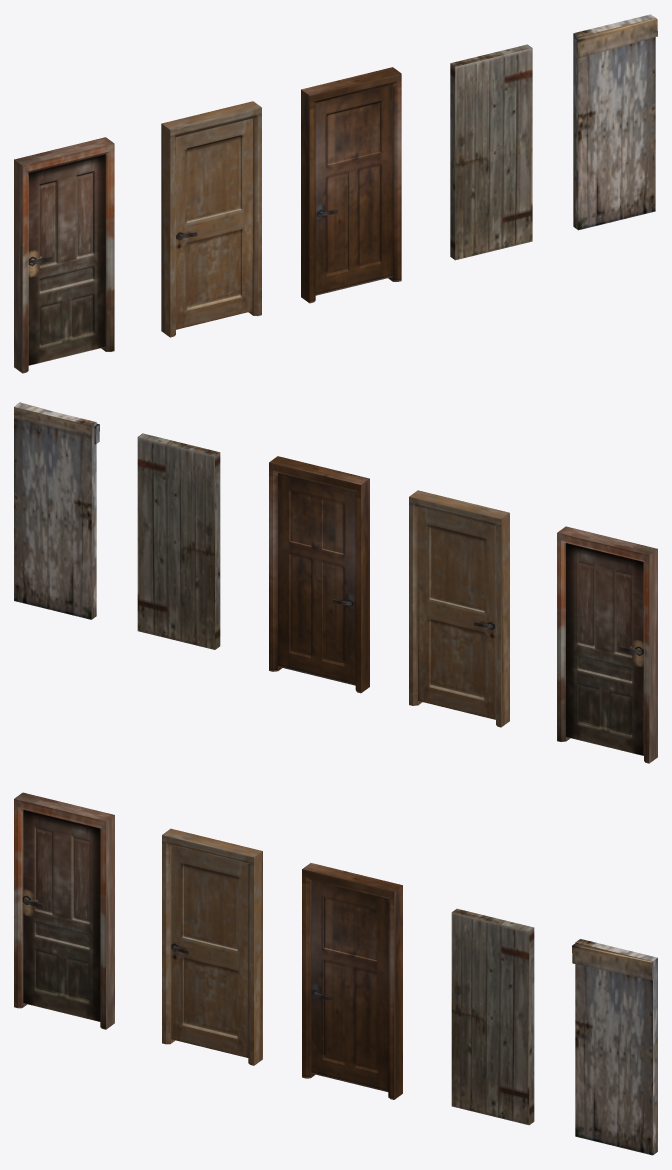
Rendered from psx-door.glb.
The picture shows the model from 3 angles, top to bottom: view 1: azimuth 30°, elevation 25°; view 2: azimuth 150°, elevation 25°; view 3: azimuth 330°, elevation 25°; orthographic projection.
Visible parts, largest first — view 1: Worn Door_001, Worn Door_002, Worn Door_004, Worn Door_006, Worn Door_005, Worn Doorframe_006, Worn Doorframe_004, Worn Doorframe_005; view 2: Worn Door_002, Worn Door_001, Worn Door_004, Worn Door_005, Worn Door_006, Worn Doorframe_004, Worn Doorframe_005, Worn Doorframe_006; view 3: Worn Door_002, Worn Door_001, Worn Door_004, Worn Door_005, Worn Door_006, Worn Doorframe_005, Worn Doorframe_004, Worn Doorframe_006.
Part boxes in pixels (x1,y1,x2,y2): Worn Door_001: [573, 14, 657, 230]; Worn Door_002: [450, 44, 532, 260]; Worn Door_004: [315, 84, 392, 295]; Worn Door_006: [28, 154, 105, 365]; Worn Door_005: [176, 118, 252, 329]; Worn Doorframe_006: [14, 137, 114, 373]; Worn Doorframe_004: [301, 67, 401, 303]; Worn Doorframe_005: [161, 101, 261, 337]; Worn Door_002: [137, 433, 220, 649]; Worn Door_001: [14, 402, 99, 619]; Worn Door_004: [278, 473, 355, 685]; Worn Door_005: [418, 507, 495, 719]; Worn Door_006: [566, 543, 643, 755]; Worn Doorframe_004: [269, 456, 369, 693]; Worn Doorframe_005: [409, 490, 509, 727]; Worn Doorframe_006: [557, 526, 657, 763]; Worn Door_002: [451, 908, 534, 1125]; Worn Door_001: [572, 939, 657, 1155]; Worn Door_004: [311, 880, 388, 1091]; Worn Door_005: [171, 846, 248, 1057]; Worn Door_006: [23, 810, 100, 1021]; Worn Doorframe_005: [162, 828, 262, 1065]; Worn Doorframe_004: [302, 863, 402, 1099]; Worn Doorframe_006: [14, 792, 114, 1029].
Size of the model in its own units: 6.21 by 1.94 by 0.1732.
1 material, 1 textured.
